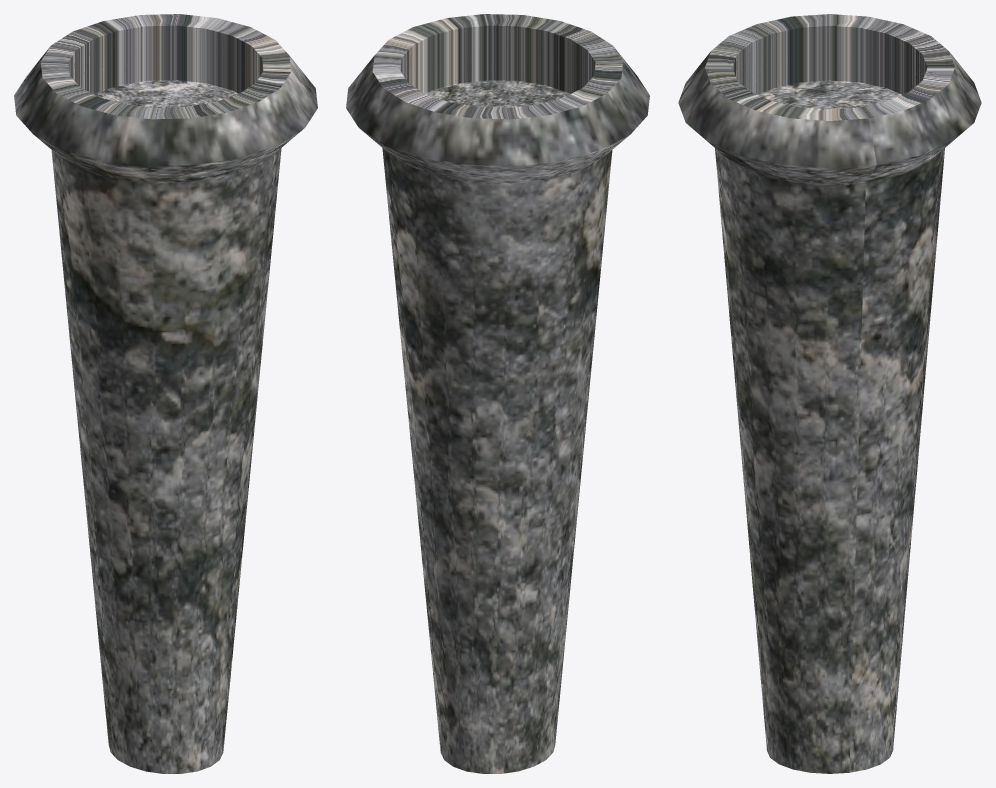
The model's file is stone torch big.fbx.
3 renders of one model, left to right at view 1: azimuth 30°, elevation 25°; view 2: azimuth 150°, elevation 25°; view 3: azimuth 270°, elevation 25°, orthographic.
Visible parts, largest first — view 1: pCylinder1; view 2: pCylinder1; view 3: pCylinder1.
Boxes of the visible parts, box(x1,y1,x2,y2) form: pCylinder1: box(14, 14, 317, 773); pCylinder1: box(346, 14, 649, 773); pCylinder1: box(678, 14, 981, 773).
Bounding box in the file's own units: 0.7629 × 1.87 × 0.7529.
